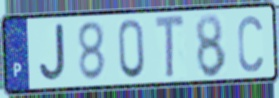0: (117, 18, 146, 81)
8: (194, 12, 228, 79), (76, 20, 107, 83)
C: (236, 12, 265, 74)
J: (37, 22, 67, 84)
T: (153, 13, 187, 82)
